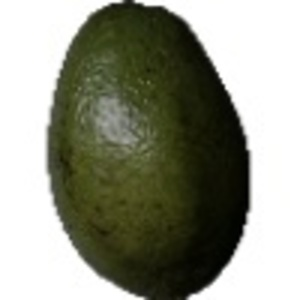abacate: (41, 2, 250, 297)
